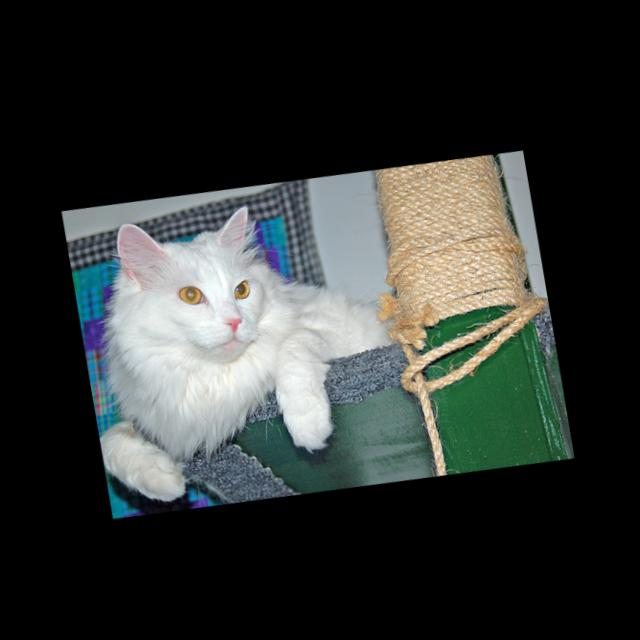animals: (123, 199, 267, 345)
